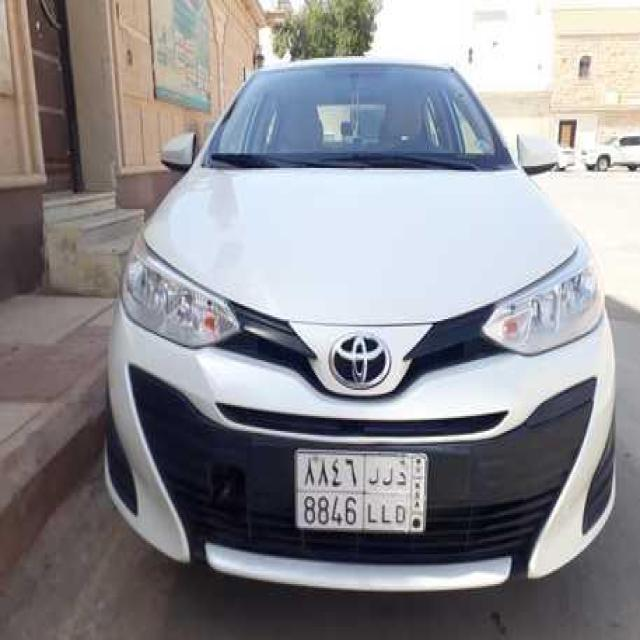license_plate: (281, 428, 437, 552)
